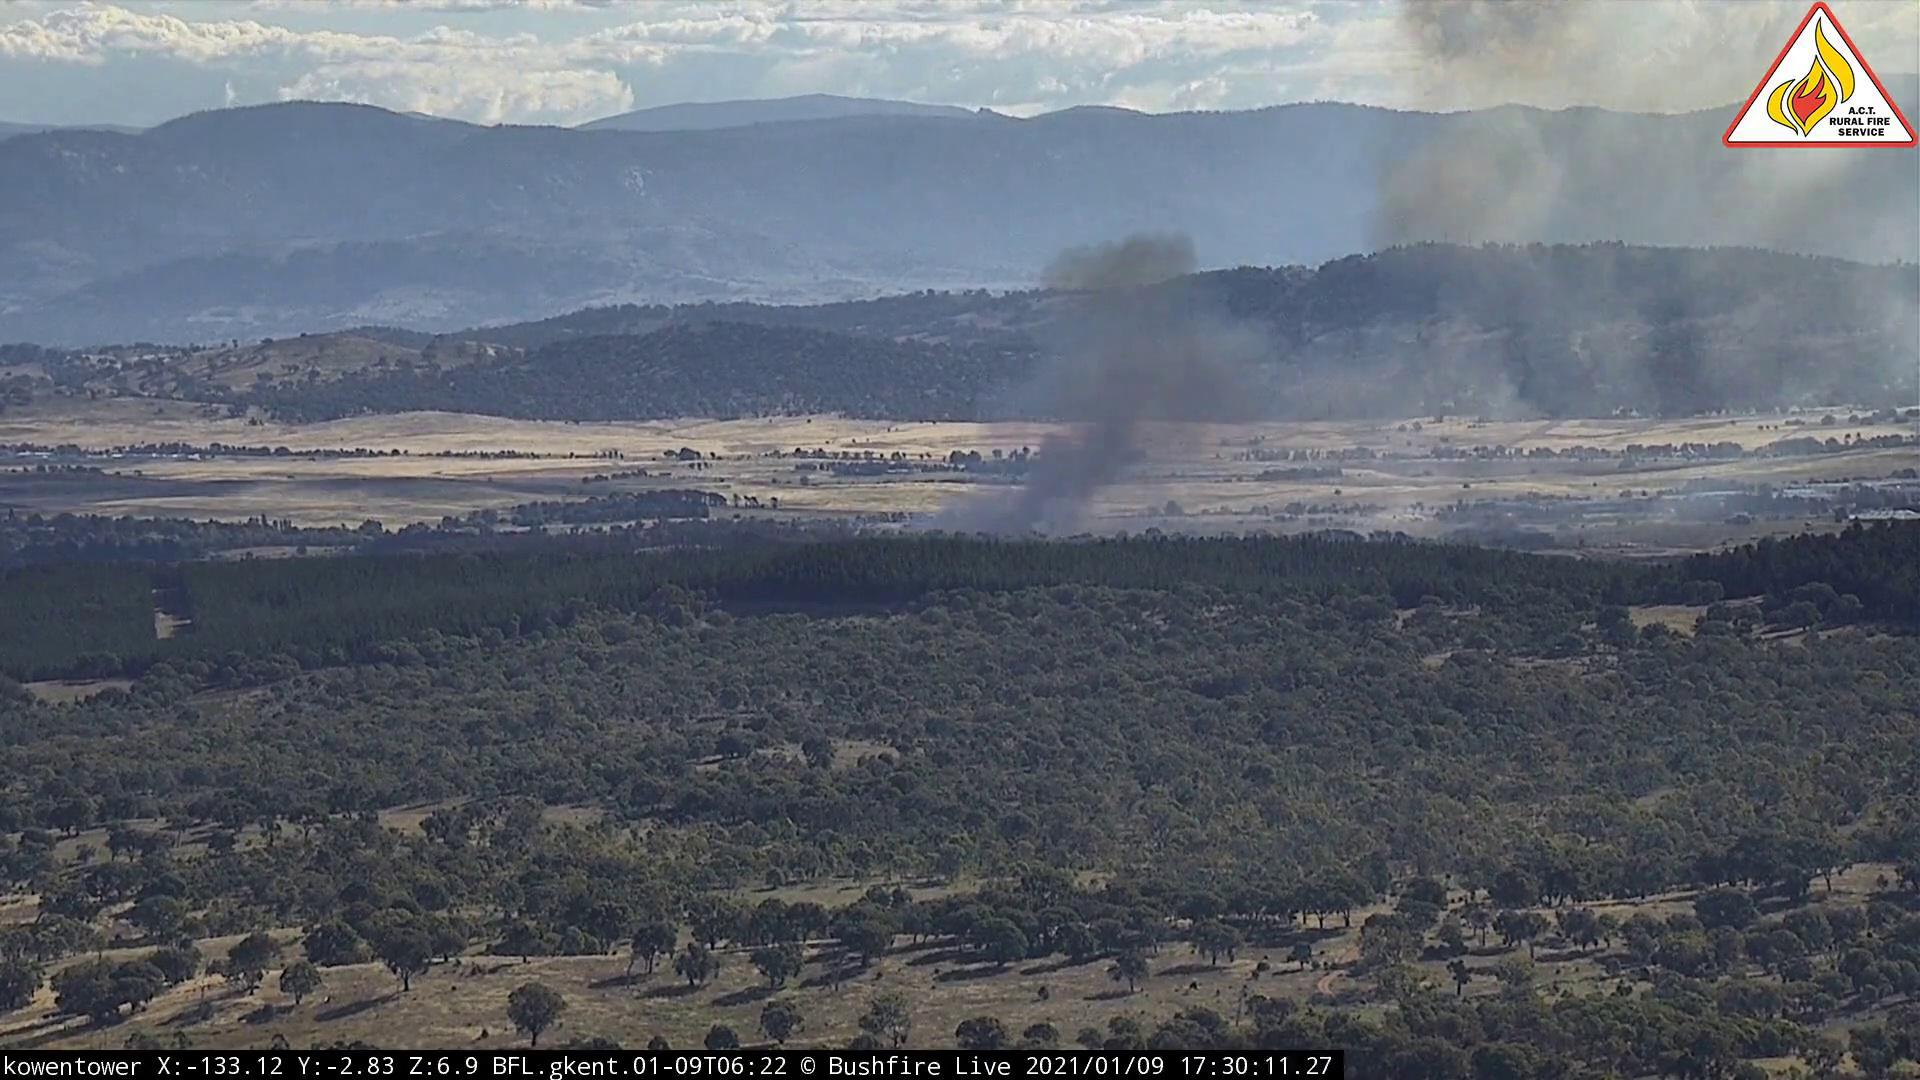Smoke: (881, 3, 1720, 546)
